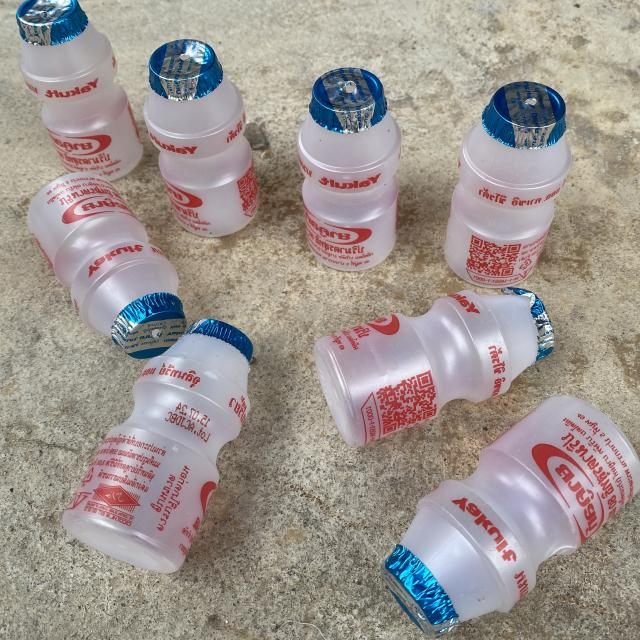plastik: (384, 395, 640, 636), (62, 319, 253, 572), (314, 288, 553, 446), (27, 173, 185, 359), (444, 82, 572, 288), (17, 0, 143, 181), (144, 39, 259, 237), (297, 68, 401, 271)
